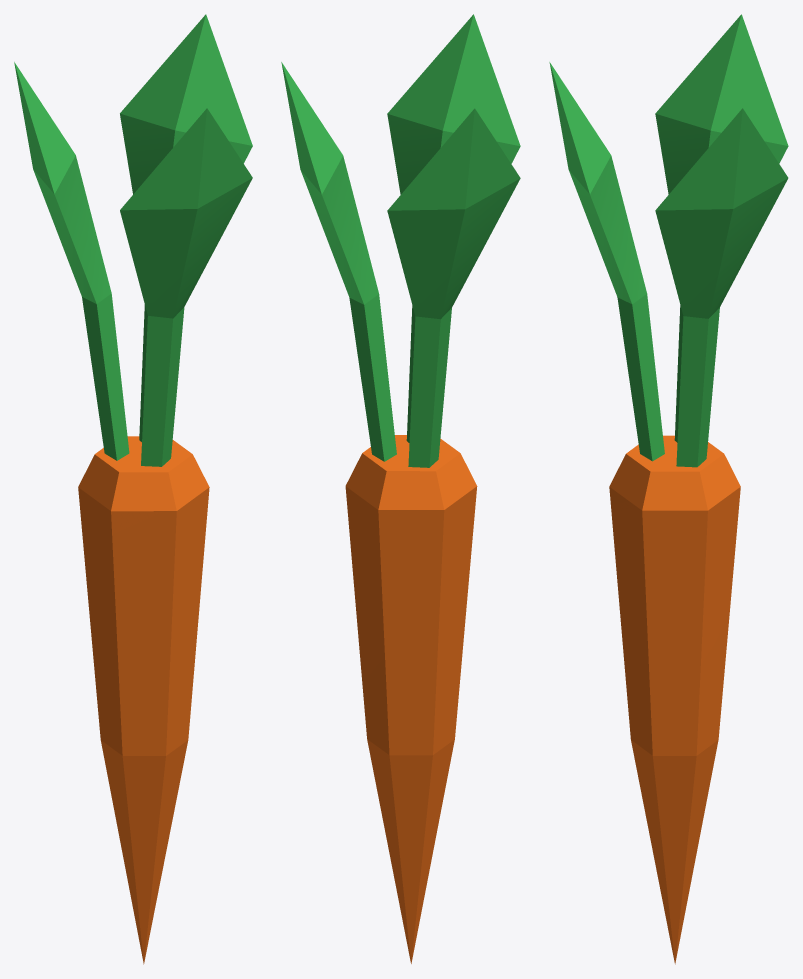
The model's file is carrot.glb.
3 views of the same model, side by side, from view 1: azimuth 30°, elevation 25°; view 2: azimuth 150°, elevation 25°; view 3: azimuth 270°, elevation 25° (orthographic).
Visible parts, largest first — view 1: carrot, obj01, obj03, obj02; view 2: carrot, obj03, obj02, obj01; view 3: carrot, obj02, obj01, obj03.
Boxes of the visible parts, <box> form: carrot: <box>78,436,209,964</box>; obj01: <box>120,108,252,466</box>; obj03: <box>14,62,129,460</box>; obj02: <box>120,14,252,441</box>; carrot: <box>345,435,477,963</box>; obj03: <box>387,108,520,467</box>; obj02: <box>281,62,396,461</box>; obj01: <box>387,14,520,443</box>; carrot: <box>609,435,740,964</box>; obj02: <box>655,108,788,467</box>; obj01: <box>549,62,664,461</box>; obj03: <box>655,14,788,442</box>.
Bounding box in the file's own units: 0.2357 × 1.03 × 0.2458.
